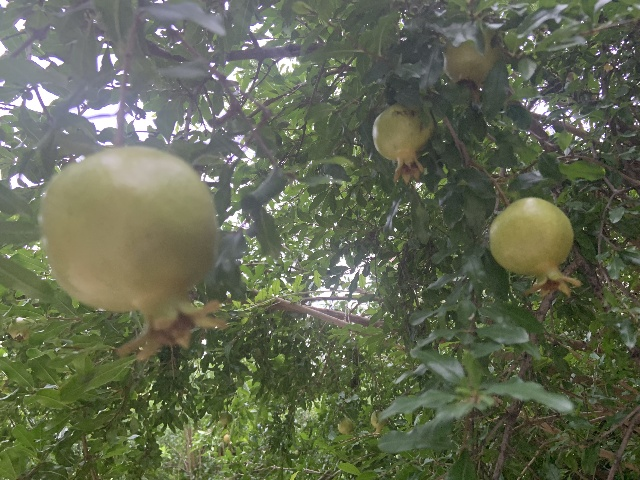mid-growth: (39, 147, 228, 362), (488, 196, 583, 299), (372, 103, 433, 184), (443, 30, 500, 104), (9, 317, 36, 342), (370, 410, 387, 433), (218, 411, 233, 429), (338, 417, 353, 434), (223, 433, 233, 445)
